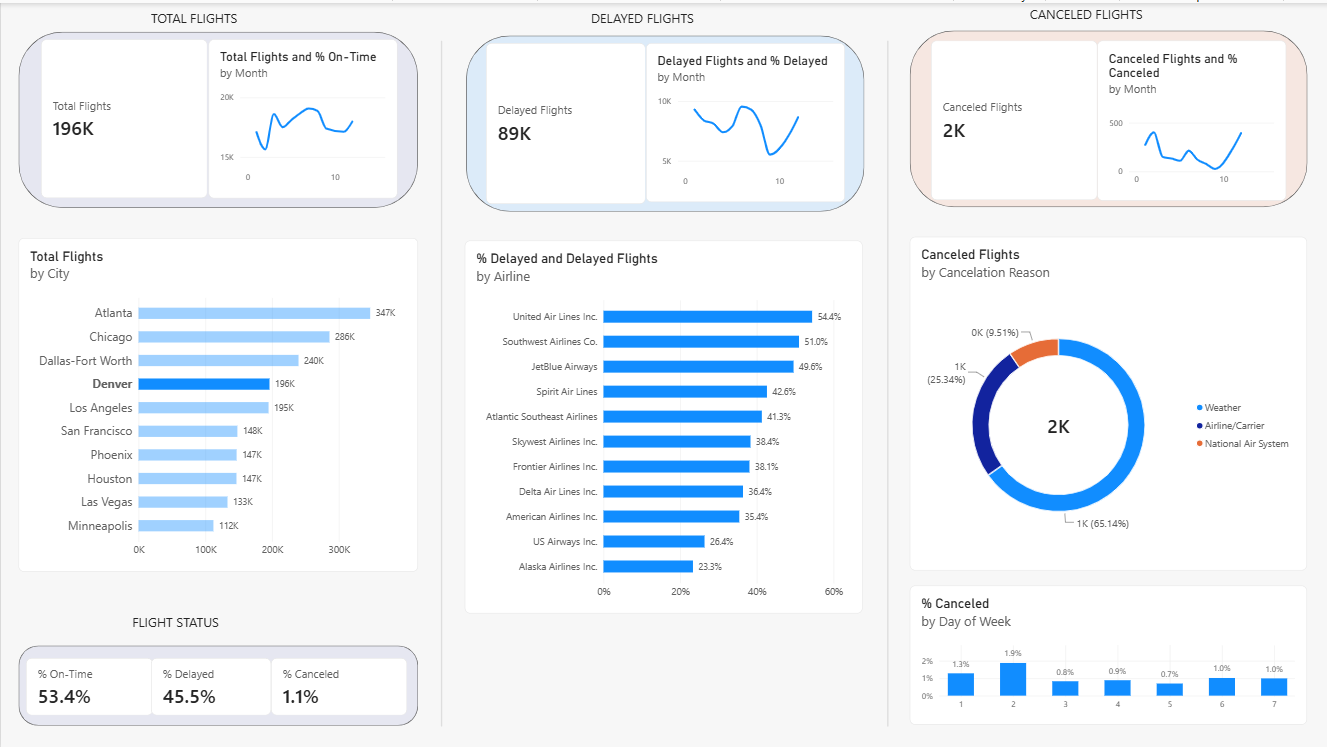

The dashboard page shown, as its layout file describes it:
{"tool":"powerbi","page":{"name":"Page 1","canvas":[1920,1080],"ordinal":0},"visuals":[{"type":"shape","box":[25.7,848.6,577.1,197.1],"z":0},{"type":"shape","box":[1287.1,310,575.7,515.7],"z":1000},{"type":"shape","box":[648.6,318.6,575.7,515.7],"z":2000},{"type":"shape","box":[25.7,310,577.1,515.7],"z":3000},{"type":"shape","box":[1287.1,37.1,575.7,255.7],"z":4000},{"type":"shape","box":[25.7,41.4,577.1,251.4],"z":5000},{"type":"shape","box":[648.6,35.7,575.7,257.1],"z":6000},{"type":"cardVisual","fields":{"Data":["flights.Total Flights"]},"box":[60,54.3,234.3,228.6],"z":7000},{"type":"lineChart","fields":{"Category":["flights.MONTH"],"Y":["flights.Total Flights"]},"box":[294.3,52.9,280,230],"z":8000},{"type":"cardVisual","fields":{"Data":["flights.Delayed Flights"]},"box":[678.6,41.4,231.4,241.4],"z":9000},{"type":"lineChart","fields":{"Category":["flights.MONTH"],"Y":["flights.Delayed Flights"]},"box":[910,41.4,281.4,241.4],"z":10000},{"type":"cardVisual","fields":{"Data":["flights.Canceled Flights"]},"box":[1318.6,51.4,228.6,231.4],"z":11000},{"type":"lineChart","fields":{"Category":["flights.MONTH"],"Y":["flights.Canceled Flights"]},"box":[1547.1,51.4,285.7,231.4],"z":12000},{"type":"cardVisual","fields":{"Data":["flights.% On-Time"]},"box":[35.7,870,182.9,160],"z":13000},{"type":"cardVisual","fields":{"Data":["flights.% Delayed"]},"box":[218,869.6,174,160],"z":14000},{"type":"cardVisual","fields":{"Data":["flights.% Canceled"]},"box":[391.4,870,197.1,160],"z":15000},{"type":"clusteredBarChart","fields":{"Category":["airports.CITY"],"Y":["flights.Total Flights"]},"box":[60,354.3,514.3,425.7],"z":16000},{"type":"clusteredBarChart","fields":{"Category":["airlines.AIRLINE"],"Y":["flights.% Delayed"]},"box":[678.6,361.4,512.9,427.1],"z":17000},{"type":"donutChart","fields":{"Category":["cancellation_codes.CANCELLATION_DESCRIPTION"],"Y":["flights.Canceled Flights"]},"box":[1318.6,354.3,514.3,425.7],"z":18000},{"type":"clusteredColumnChart","fields":{"Category":["flights.DAY_OF_WEEK"],"Y":["flights.% Canceled"]},"box":[1265.7,848.6,618.6,215.7],"z":19000},{"type":"hundredPercentStackedBarChart","fields":{"Series":["flights.Status"],"Y":["flights.Total Flights"]},"box":[631.4,848.6,612.9,215.7],"z":20000},{"type":"textbox","box":[218,8,286,30],"z":21000},{"type":"textbox","box":[830,6,160,36],"z":22000},{"type":"textbox","box":[1448,4,196,40],"z":23000}]}

Visuals, with their boxes in screenshot pixels (x1, y1, x2, y2), scaled from the page's 1920x1080 canvas onto the 1327x747 screenshot:
shape: 18/587/417/723
shape: 890/214/1287/571
shape: 448/220/846/577
shape: 18/214/417/571
shape: 890/26/1287/203
shape: 18/29/417/203
shape: 448/25/846/203
cardVisual - flights.Total Flights: 41/38/203/196
lineChart - flights.MONTH x flights.Total Flights: 203/37/397/196
cardVisual - flights.Delayed Flights: 469/29/629/196
lineChart - flights.MONTH x flights.Delayed Flights: 629/29/823/196
cardVisual - flights.Canceled Flights: 911/36/1069/196
lineChart - flights.MONTH x flights.Canceled Flights: 1069/36/1267/196
cardVisual - flights.% On-Time: 25/602/151/712
cardVisual - flights.% Delayed: 151/601/271/712
cardVisual - flights.% Canceled: 271/602/407/712
clusteredBarChart - airports.CITY x flights.Total Flights: 41/245/397/540
clusteredBarChart - airlines.AIRLINE x flights.% Delayed: 469/250/824/545
donutChart - cancellation_codes.CANCELLATION_DESCRIPTION x flights.Canceled Flights: 911/245/1267/540
clusteredColumnChart - flights.DAY_OF_WEEK x flights.% Canceled: 875/587/1302/736
hundredPercentStackedBarChart - flights.Status x flights.Total Flights: 436/587/860/736
textbox: 151/6/348/26
textbox: 574/4/684/29
textbox: 1001/3/1136/30
